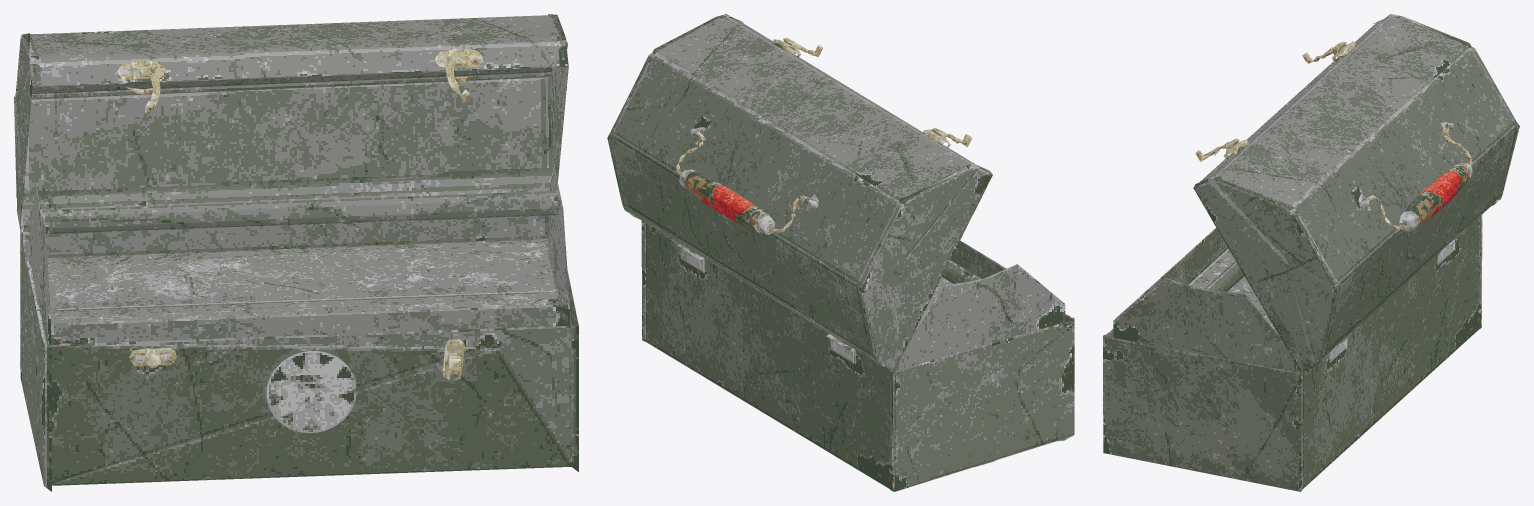
File: toolbox.glb
3 views of the same model, side by side, from view 1: azimuth 30°, elevation 25°; view 2: azimuth 150°, elevation 25°; view 3: azimuth 270°, elevation 25° (orthographic). The views are drawn at different scales.
Visible parts, largest first — view 1: model_m; view 2: model_m; view 3: model_m.
Part boxes in pixels (box(x1,y1,x2,y2)): model_m: box(14, 14, 578, 491); model_m: box(607, 14, 1074, 491); model_m: box(1103, 14, 1519, 491).
Bounding box in the file's own units: 42.74 × 28.12 × 35.65.
1 material, 1 textured.
